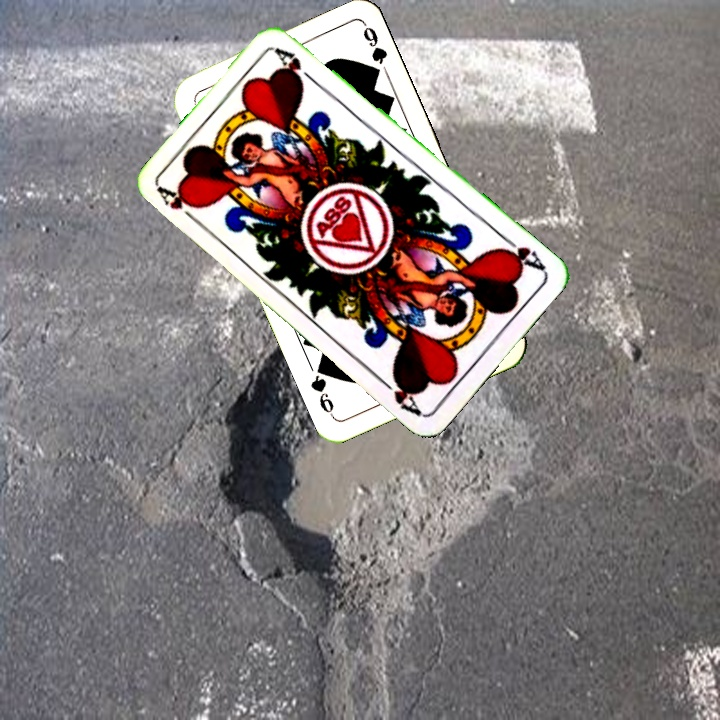HA: (154, 183, 205, 228), (494, 231, 548, 273)
